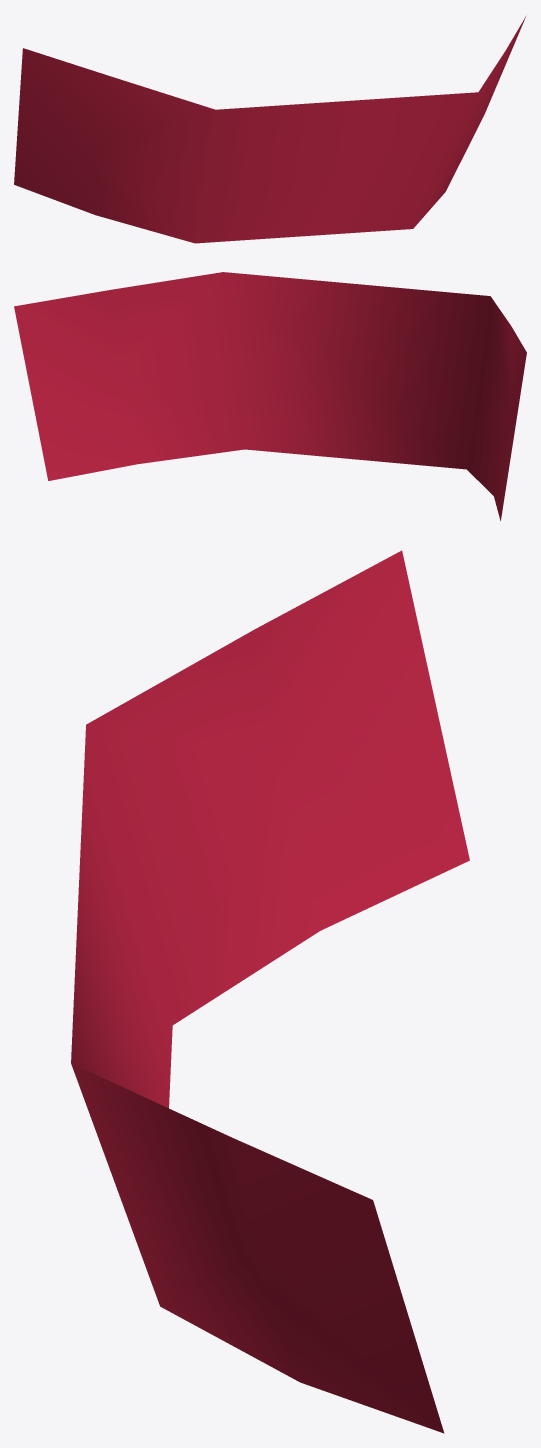
3 renders of one model, top to bottom at view 1: azimuth 30°, elevation 25°; view 2: azimuth 150°, elevation 25°; view 3: azimuth 270°, elevation 25°, orthographic. The views are drawn at different scales.
Parts seen in each view (by area): view 1: ef_495; view 2: ef_495; view 3: ef_495.
Part boxes in pixels (bbox=[...]): ef_495: bbox=[14, 16, 525, 243]; ef_495: bbox=[14, 272, 526, 520]; ef_495: bbox=[71, 550, 469, 1433].
Size of the model in its own units: 0.6826 by 0.2939 by 0.2374.
Materials: 1 (1 with a texture image).
